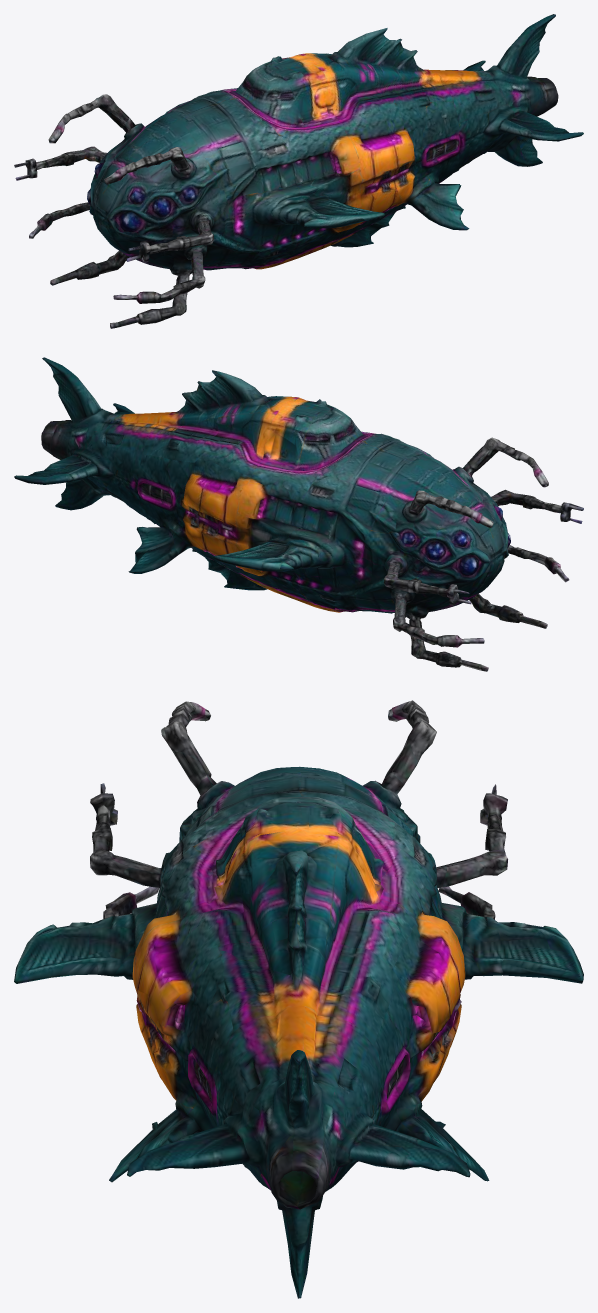
Rendered from Aquarii_ResearchShipII.glb.
3 views of the same model, one above another, from view 1: azimuth 30°, elevation 25°; view 2: azimuth 150°, elevation 25°; view 3: azimuth 270°, elevation 25° (orthographic). The views are drawn at different scales.
Bounding box in the file's own units: 1.9 × 0.7963 × 1.13.
1 material, 1 textured.
